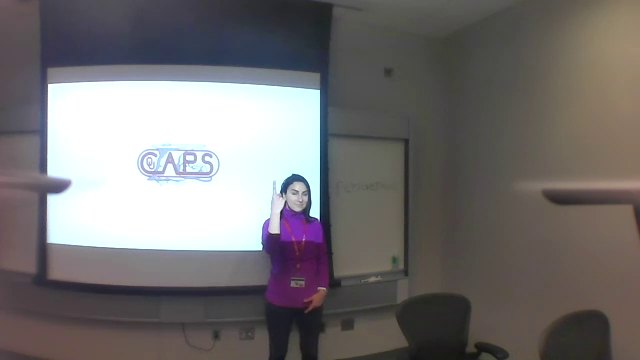up: (270, 179, 291, 214)
